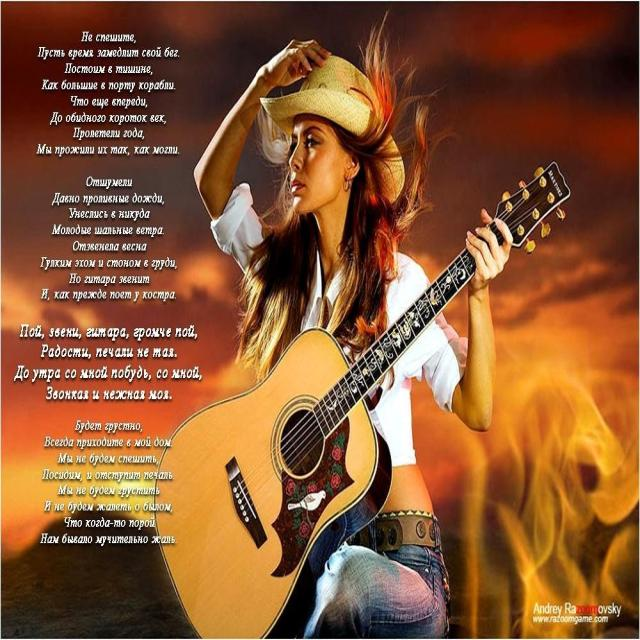guitar: (153, 153, 575, 640)
